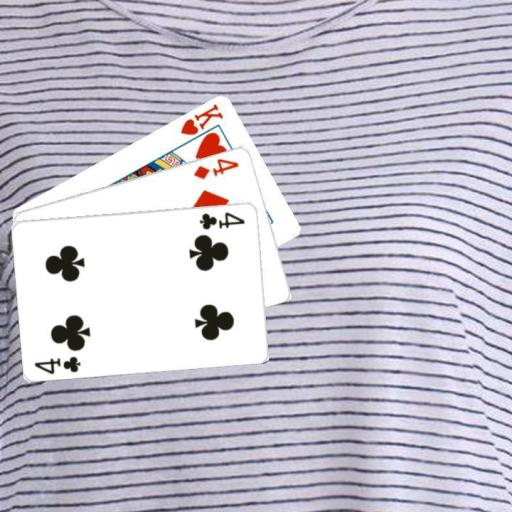4C: (32, 353, 83, 376), (197, 209, 247, 231)
4D: (191, 155, 241, 181)
KH: (177, 100, 225, 137)
